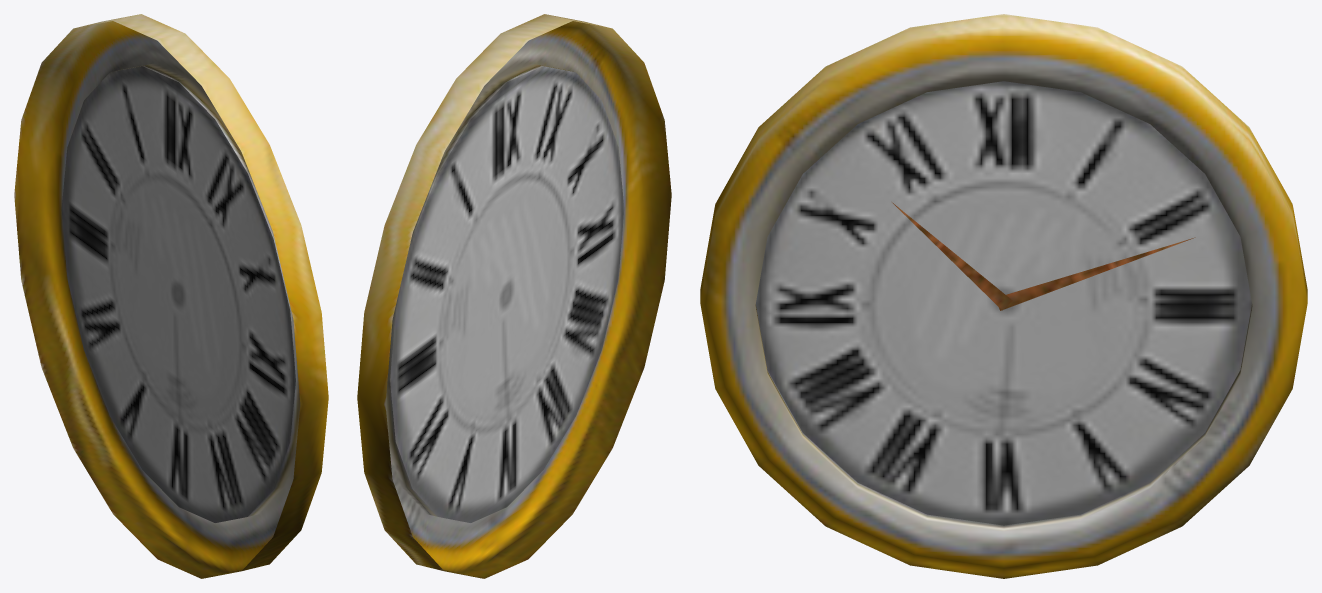
Rendered from clock2.fbx.
The picture shows the model from 3 angles, left to right: view 1: azimuth 30°, elevation 25°; view 2: azimuth 150°, elevation 25°; view 3: azimuth 270°, elevation 25°; orthographic projection. The views are drawn at different scales.
Visible parts, largest first — view 1: horloge2; view 2: horloge2; view 3: horloge2.
Boxes of the visible parts, x1,y1,x2,y2 form: horloge2: [14, 14, 328, 578]; horloge2: [357, 14, 671, 578]; horloge2: [700, 14, 1307, 578].
Bounding box in the file's own units: 2.58 × 38.11 × 38.11.
